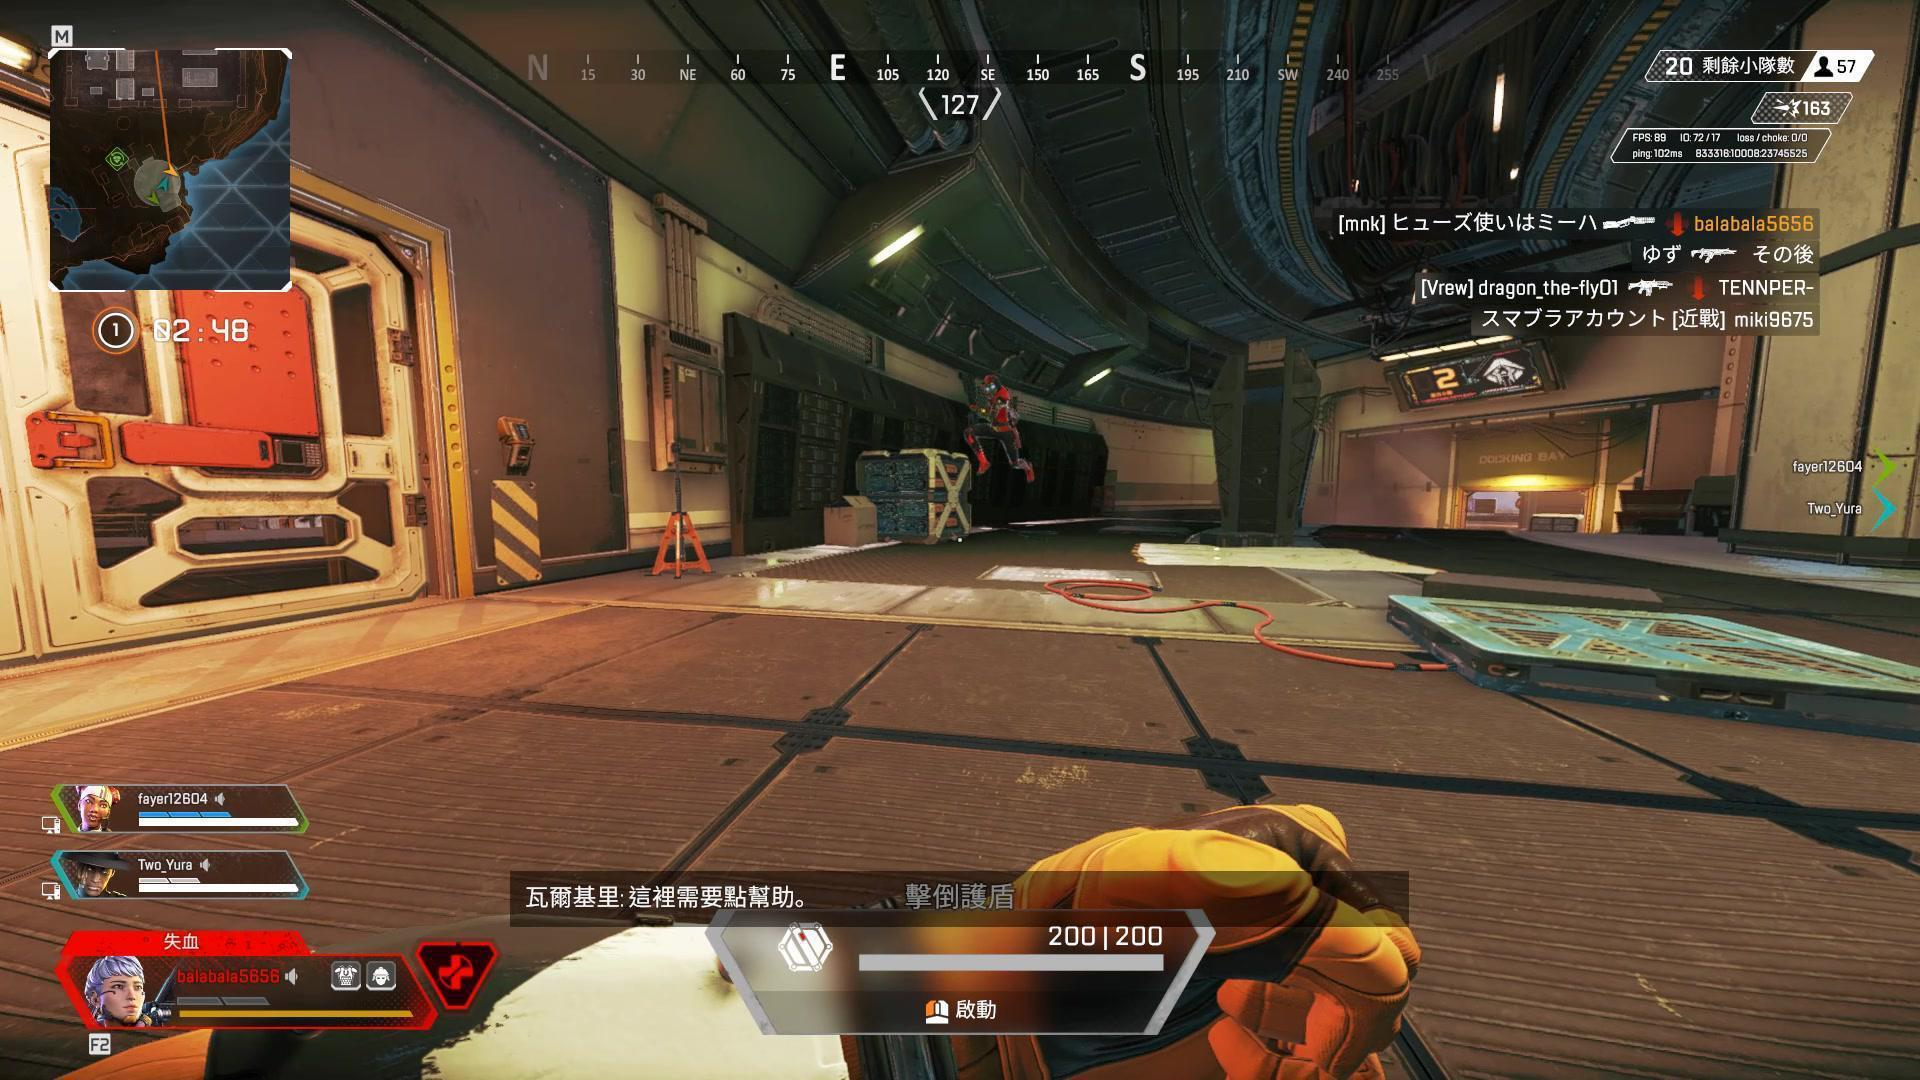avatar: (963, 372, 1028, 477)
